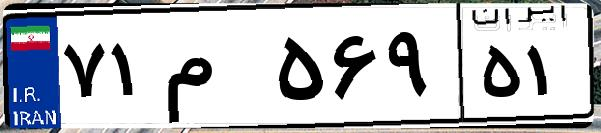1: (525, 38, 570, 115), (110, 28, 158, 98)
5: (270, 28, 330, 110), (475, 38, 525, 113)
6: (330, 28, 385, 110)
7: (57, 26, 110, 100)
9: (385, 28, 445, 110)
م: (158, 20, 270, 120)
